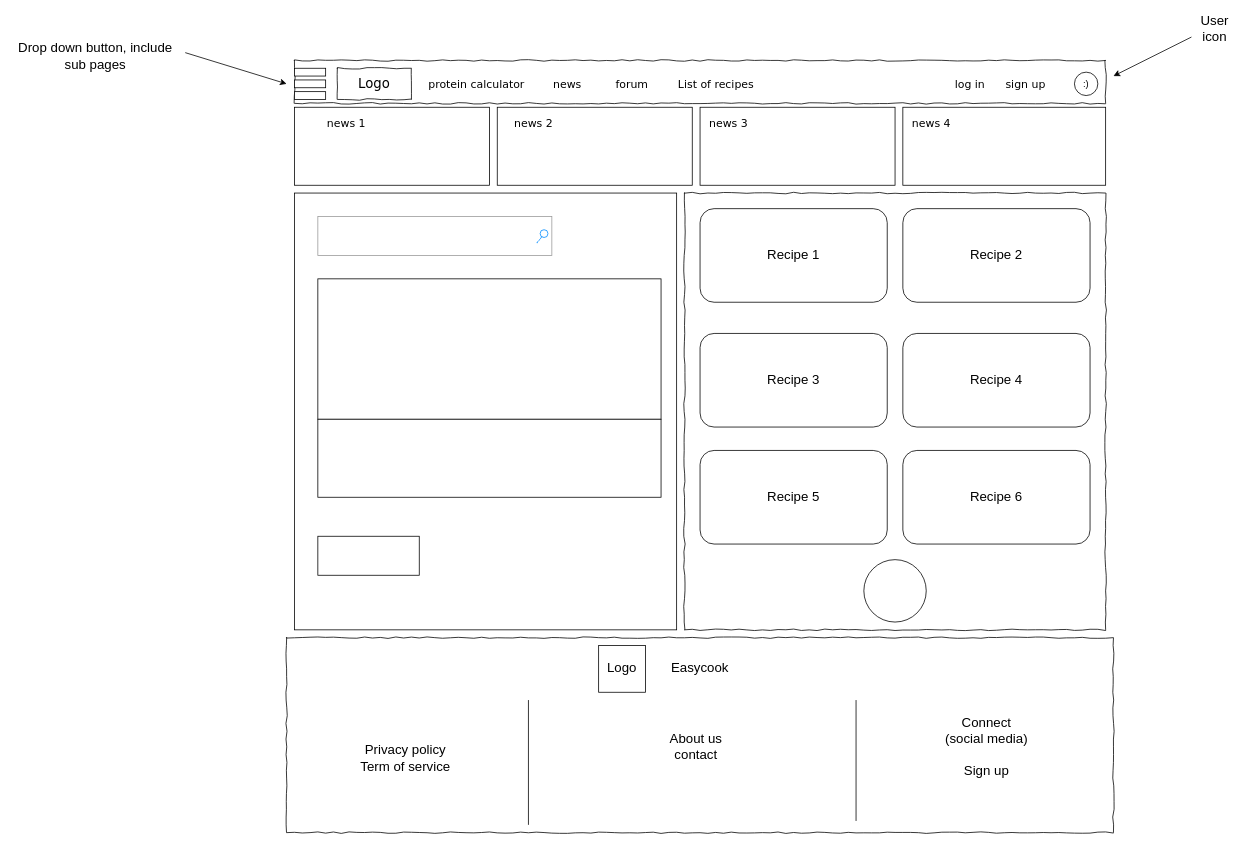
This 1243x846 diagram has some shape labels left out. Each missing label, with the centre of its shape:
"Apply changes" belongs at [368,555].
"Chosen box" belongs at [489,457].
"Load More" belongs at [894,590].
"Search" belongs at [434,235].
"tick box" belongs at [489,348].
